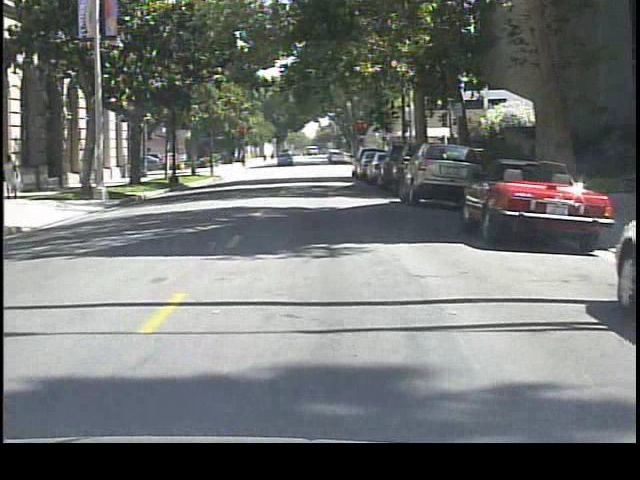person: (3, 151, 30, 202)
